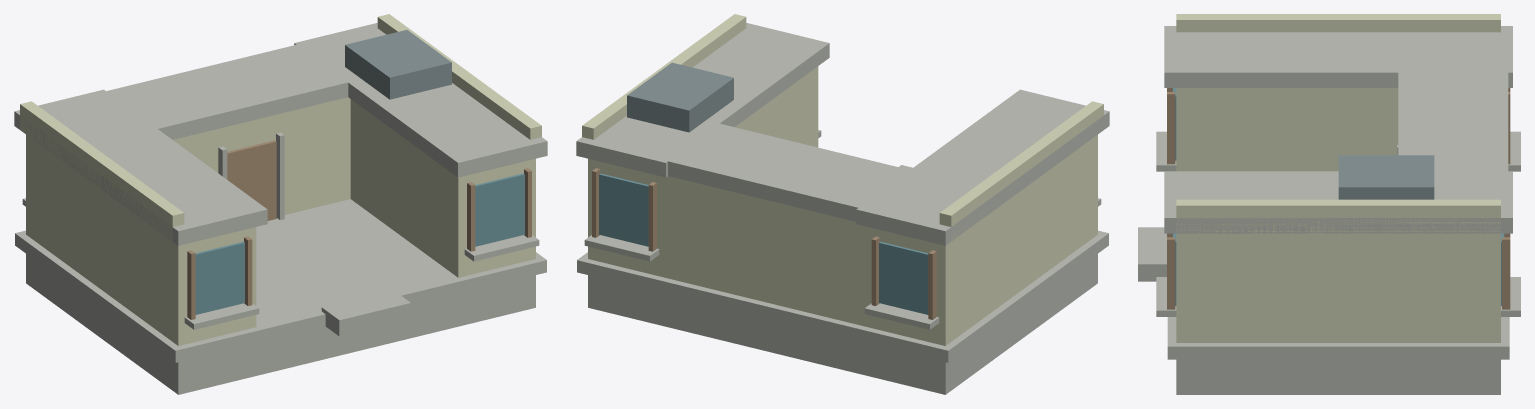
Rendered from courtyard-3.glb.
The picture shows the model from 3 angles, left to right: view 1: azimuth 30°, elevation 25°; view 2: azimuth 150°, elevation 25°; view 3: azimuth 270°, elevation 25°; orthographic projection. The views are drawn at different scales.
Size of the model in its own units: 4.78 by 2.35 by 4.01.
